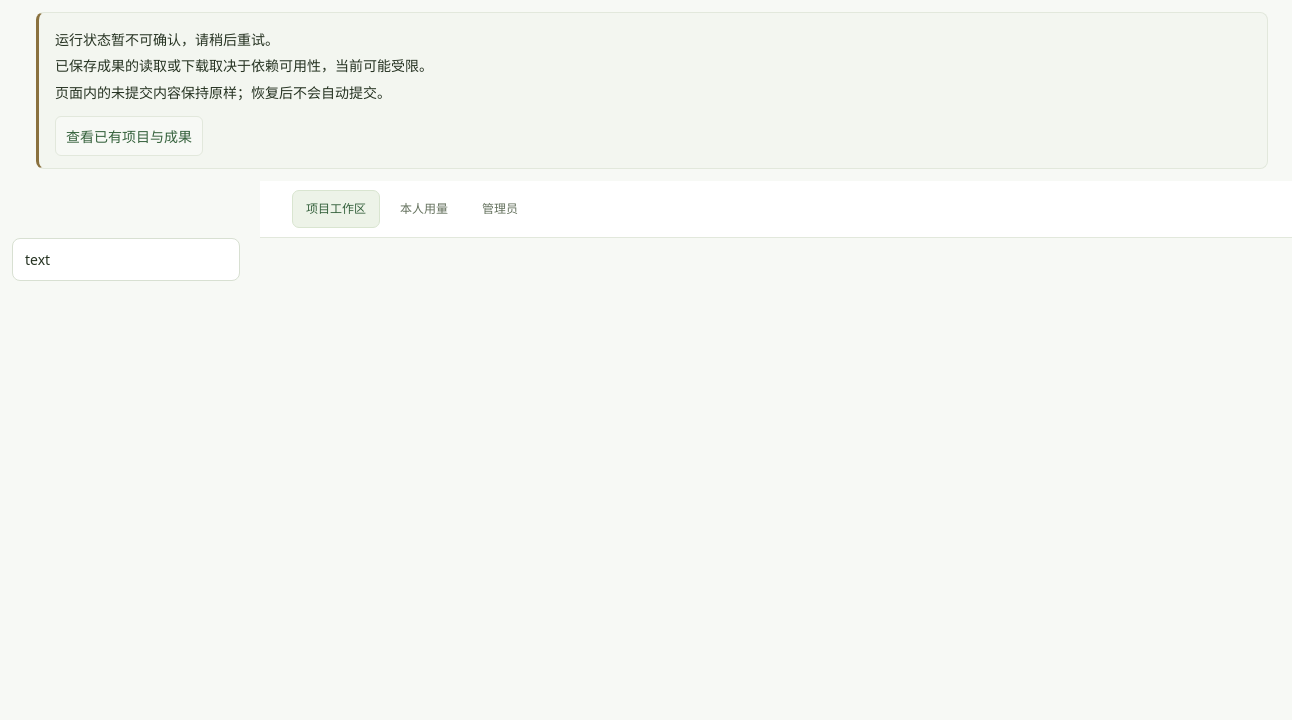
Test: integrates the admin runtime tab with active polling and immediate role revocation
Click the button "管理员" at (500, 209), box x1=468 y1=190 x2=532 y2=228
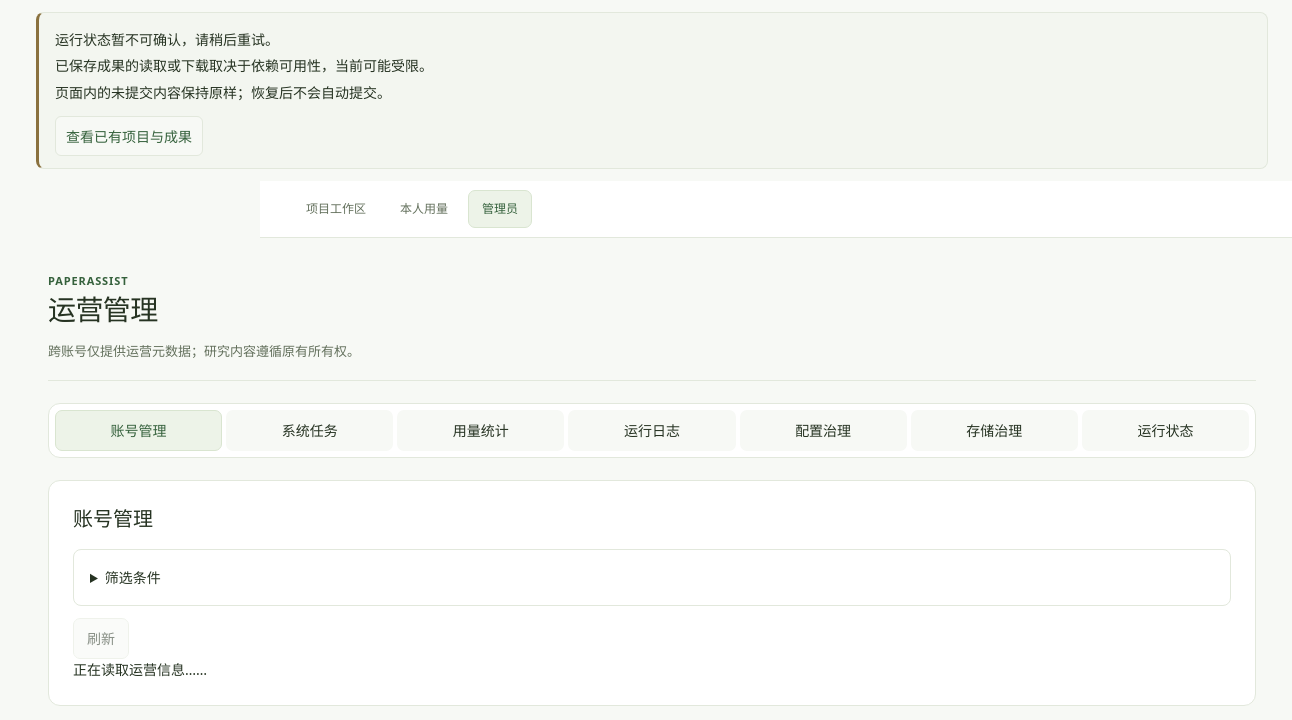
Click the button "运行状态" at (1165, 430), box x1=1082 y1=410 x2=1249 y2=451
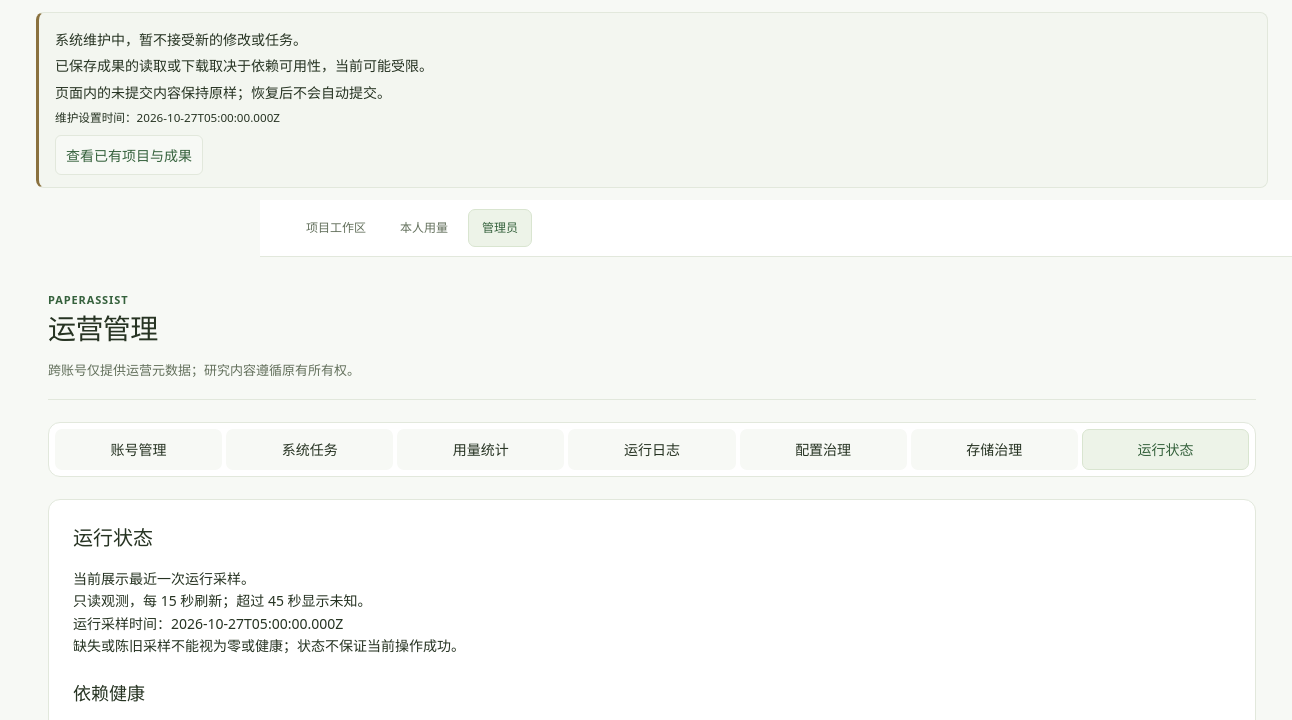
Click the button "查看已有项目与成果" at (129, 155), box x1=55 y1=135 x2=203 y2=175
Wait 16000 ms
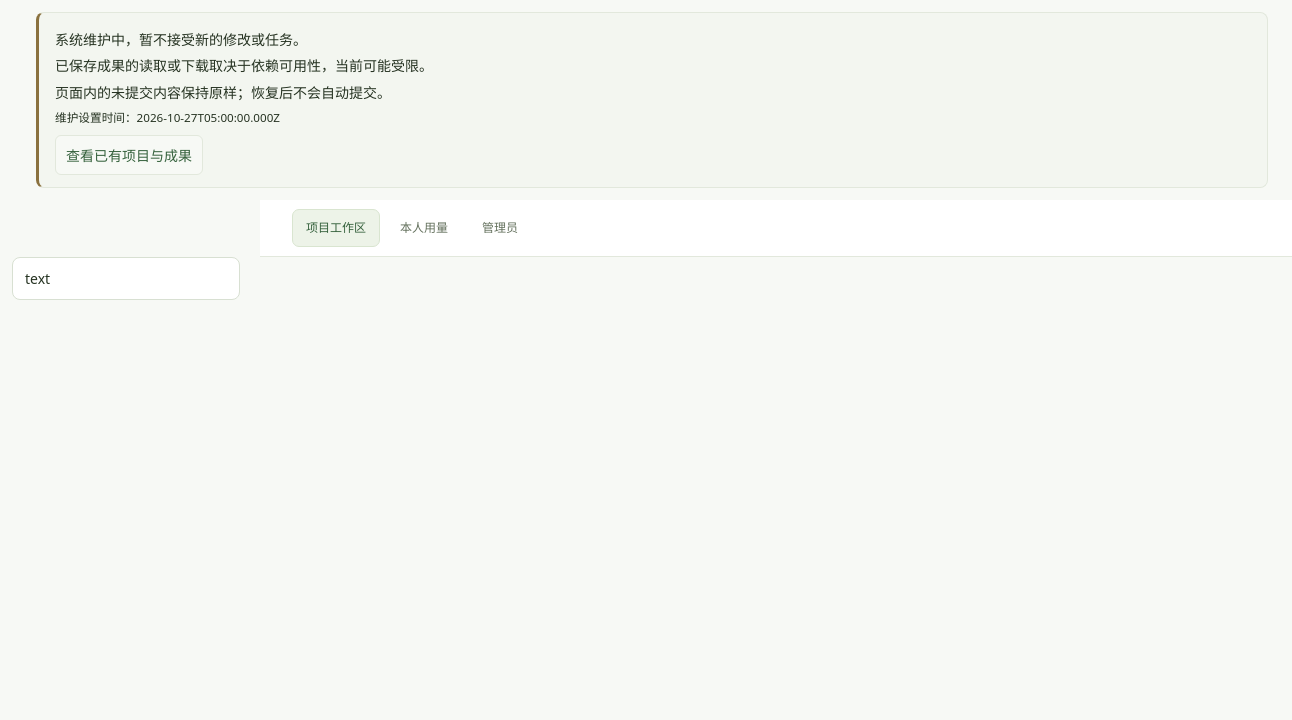
Result: the field named "Retained project draft" holds "text" at x1=12 y1=257 x2=240 y2=300
Click the button "管理员" at (500, 228), box x1=468 y1=209 x2=532 y2=247
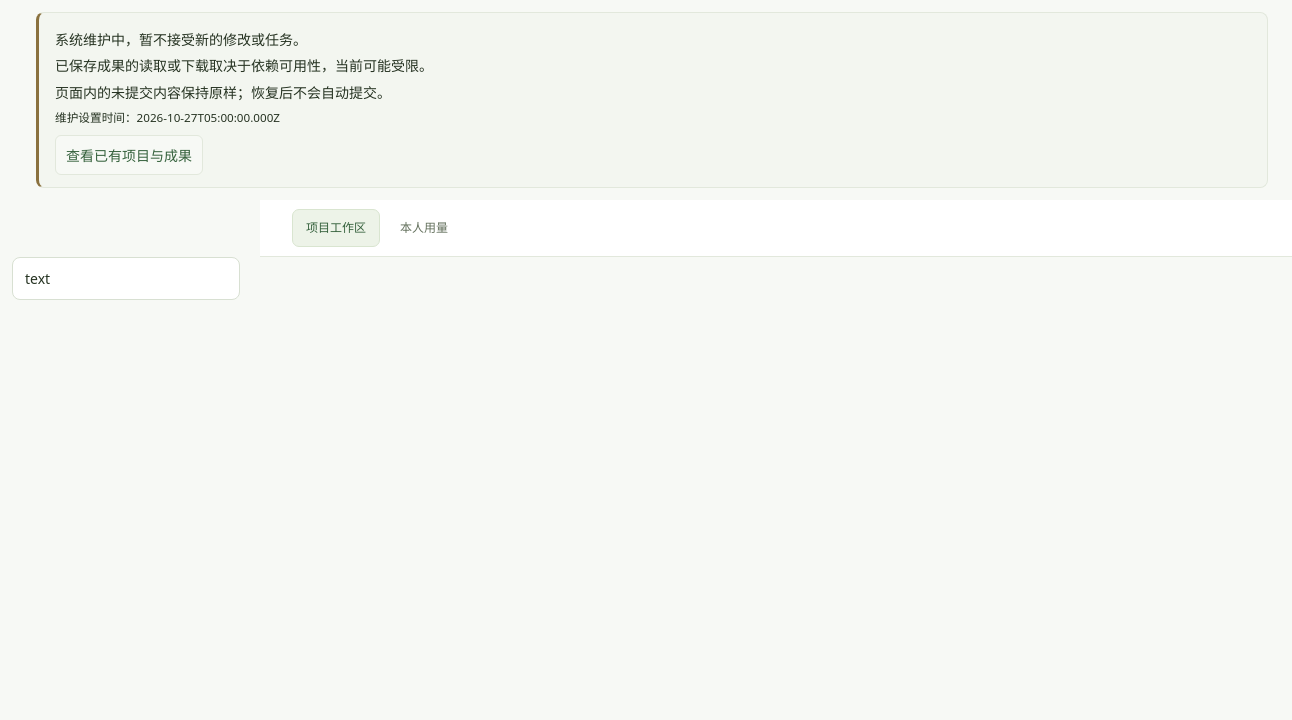
Result: the button "管理员" is gone
